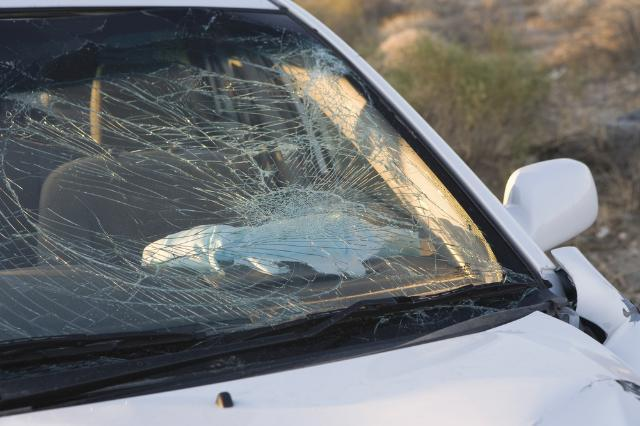glass shatter: (0, 8, 543, 378)
